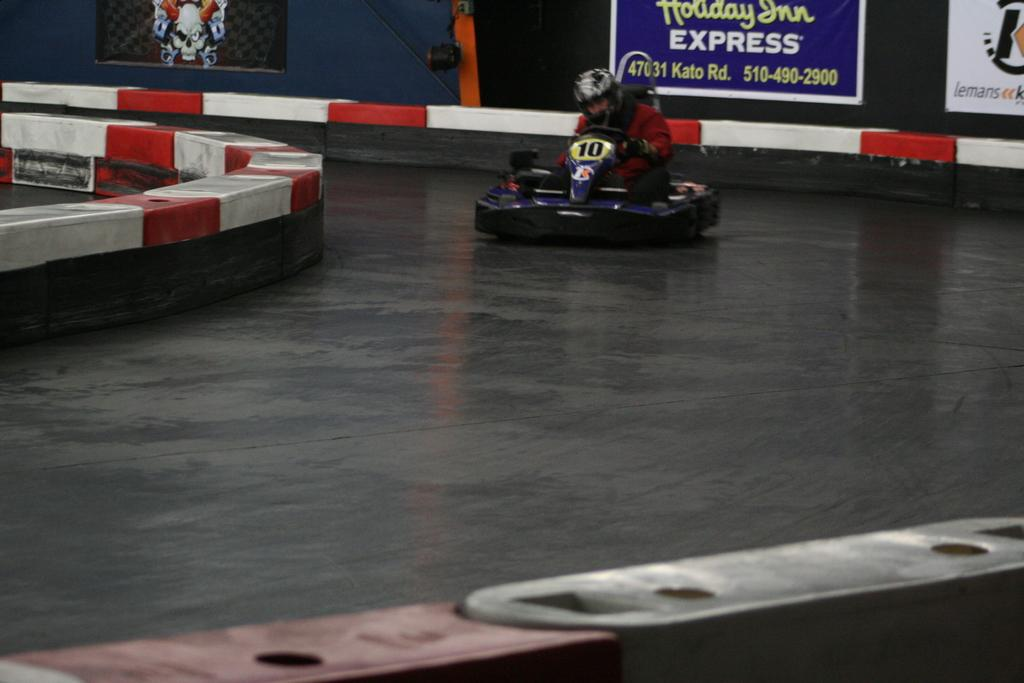helmet: (572, 68, 624, 126)
